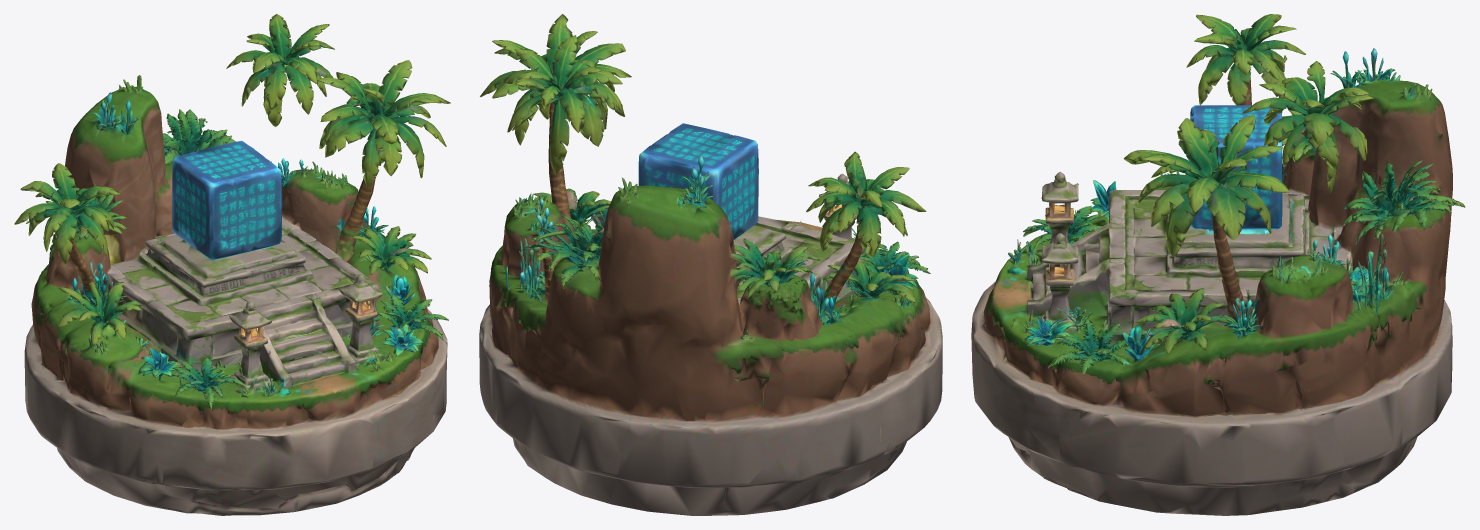
Rendered from island_formacao.glb.
3 views of the same model, side by side, from view 1: azimuth 30°, elevation 25°; view 2: azimuth 150°, elevation 25°; view 3: azimuth 270°, elevation 25° (orthographic). The views are drawn at different scales.
Bounding box in the file's own units: 1.9 × 1.59 × 1.77.
1 material, 1 textured.
